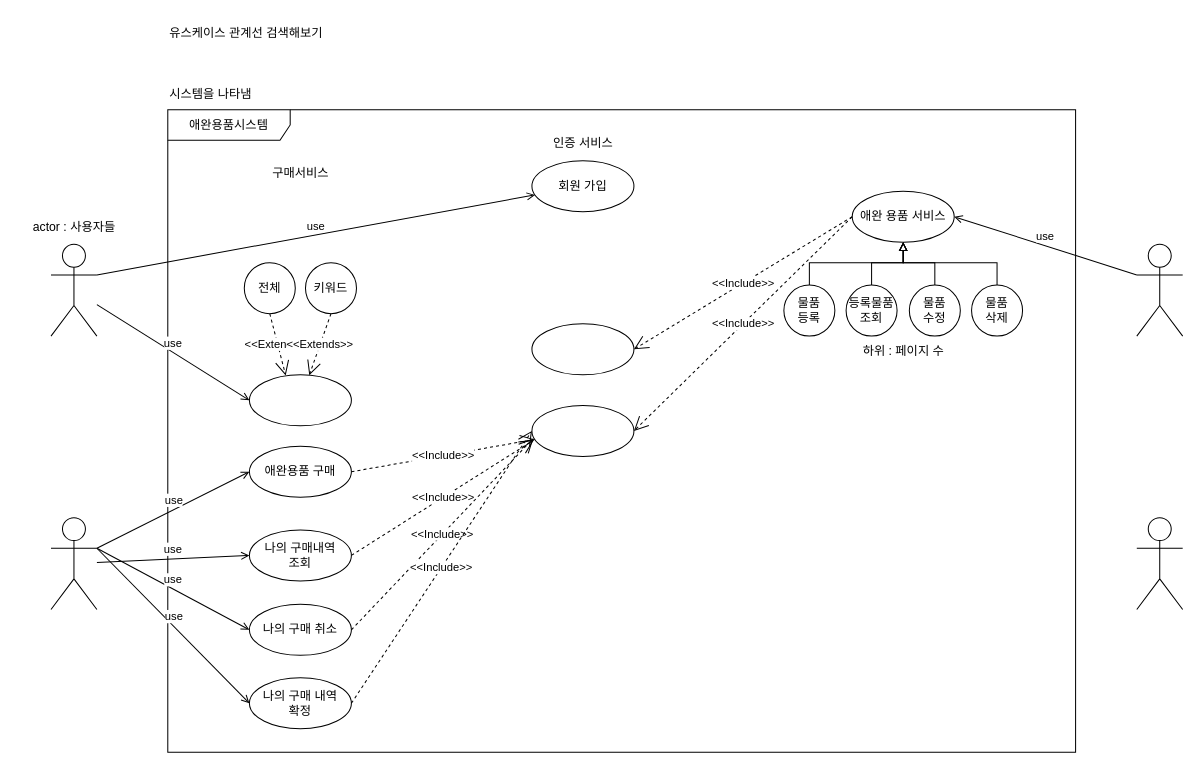
The diagram is 1201 pixels wide and 770 high, and some of its shapes have lost their labels. Each missing label, with the centre of its shape:
"계정 전환" belongs at (x=582, y=349).
"관리자" belongs at (x=1159, y=563).
"로그인" belongs at (x=582, y=430).
"비회원" belongs at (x=73, y=289).
"애완용품 조회" belongs at (x=299, y=400).
"판매자" belongs at (x=1159, y=289).
"회원" belongs at (x=73, y=563).
